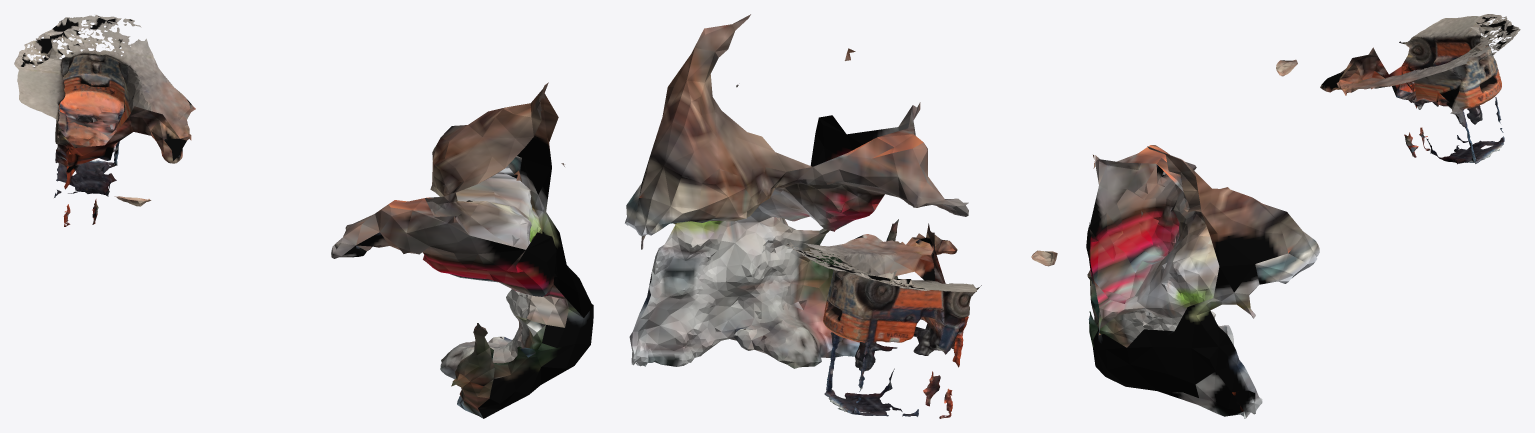
The model's file is texturedMesh.obj.
The picture shows the model from 3 angles, left to right: view 1: azimuth 30°, elevation 25°; view 2: azimuth 150°, elevation 25°; view 3: azimuth 270°, elevation 25°; orthographic projection. The views are drawn at different scales.
Parts seen in each view (by area): view 1: TexturedMesh; view 2: TexturedMesh; view 3: TexturedMesh.
Part boxes in pixels (left/top/right/bottom): TexturedMesh: left=14, top=15, right=593, bottom=418; TexturedMesh: left=625, top=14, right=1057, bottom=418; TexturedMesh: left=1086, top=14, right=1520, bottom=418.
Size of the model in its own units: 5.34 by 3.57 by 5.44.
1 material, 1 textured.
